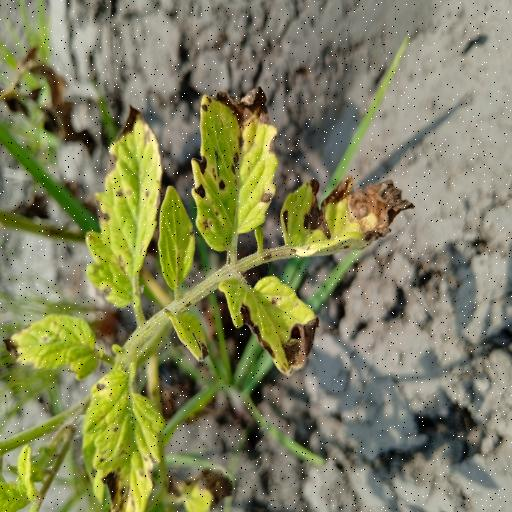Tomato_Brown_Spots: (188, 82, 284, 253), (84, 110, 160, 316), (82, 355, 165, 512), (217, 270, 322, 378), (3, 312, 110, 376), (160, 180, 198, 298)
